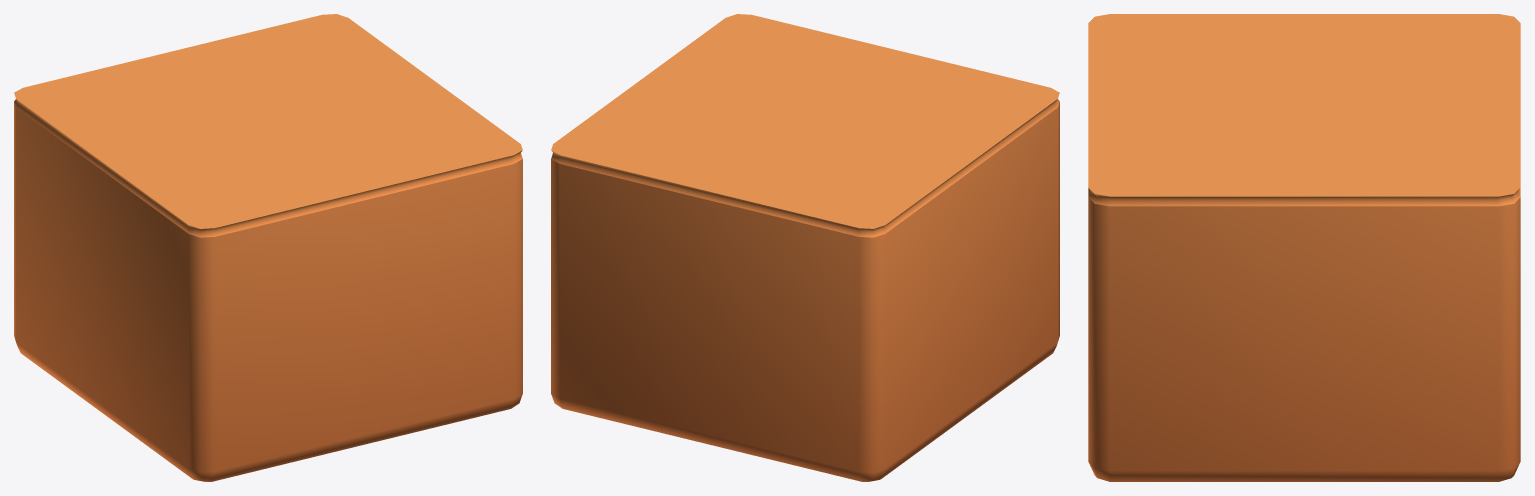
Rendered from 3D_Tile_Socket_Ground_01.fbx.
The picture shows the model from 3 angles, left to right: view 1: azimuth 30°, elevation 25°; view 2: azimuth 150°, elevation 25°; view 3: azimuth 270°, elevation 25°; orthographic projection. The views are drawn at different scales.
Parts seen in each view (by area): view 1: 3D_Tile_Socket_Ground_01; view 2: 3D_Tile_Socket_Ground_01; view 3: 3D_Tile_Socket_Ground_01.
Boxes of the visible parts, x1,y1,x2,y2 form: 3D_Tile_Socket_Ground_01: (14,14,522,481); 3D_Tile_Socket_Ground_01: (551,14,1059,481); 3D_Tile_Socket_Ground_01: (1088,14,1520,481).
Size of the model in its own units: 200 by 150 by 200.
